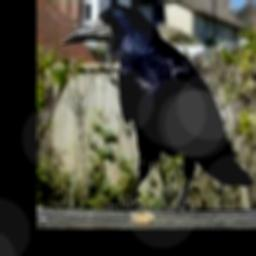Crow: (62, 1, 251, 212)
